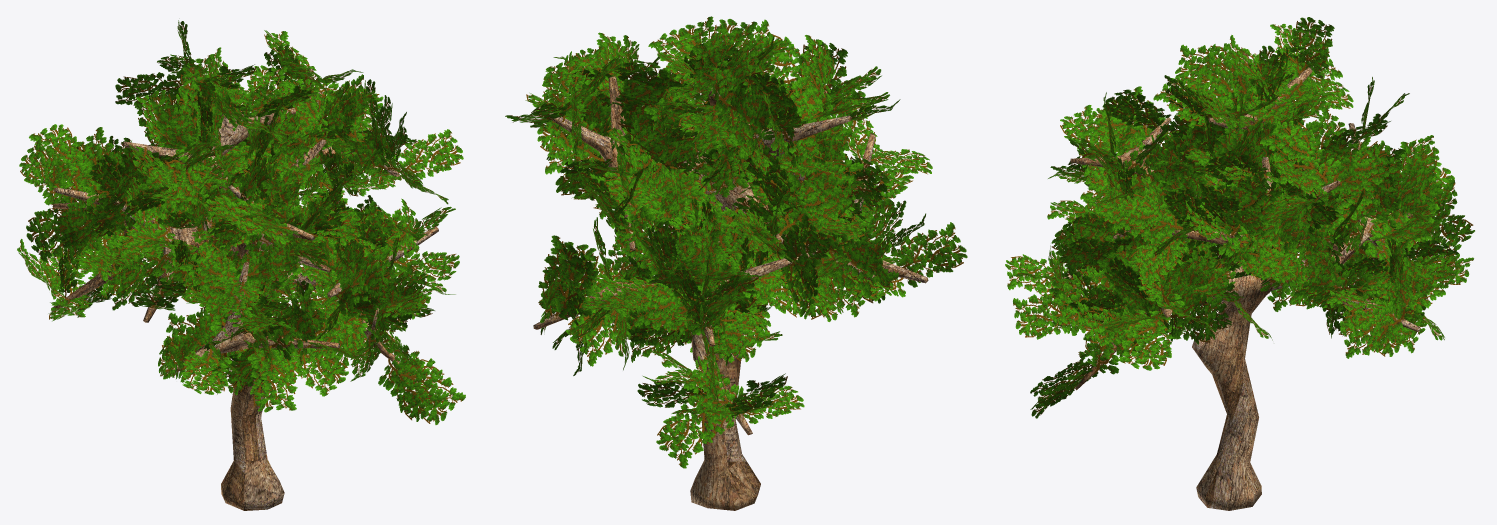
Rendered from Arvores-EL.glb.
3 views of the same model, side by side, from view 1: azimuth 30°, elevation 25°; view 2: azimuth 150°, elevation 25°; view 3: azimuth 270°, elevation 25° (orthographic). The views are drawn at different scales.
Parts seen in each view (by area): view 1: arvoreNormal; view 2: arvoreNormal; view 3: arvoreNormal.
Part boxes in pixels (x1,y1,x2,y2): arvoreNormal: (17, 20, 465, 510); arvoreNormal: (505, 16, 967, 510); arvoreNormal: (1005, 17, 1474, 510).
Size of the model in its own units: 5.39 by 6.69 by 6.2.
3 materials, 3 textured.
